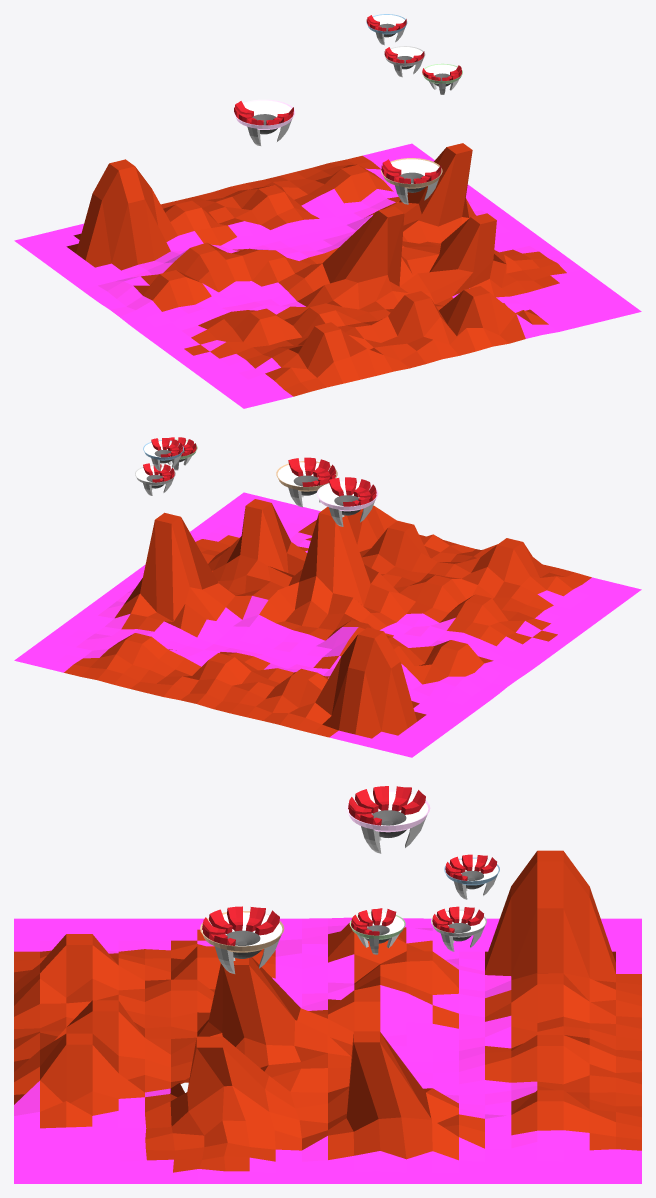
Rendered from land.gltf.
3 views of the same model, one above another, from view 1: azimuth 30°, elevation 25°; view 2: azimuth 150°, elevation 25°; view 3: azimuth 270°, elevation 25° (orthographic). The views are drawn at different scales.
Parts seen in each view (by area): view 1: Grid.001, spaceship orange, Spaceship Pink, spaceship Green.002, spaceship blue.003; view 2: Grid.001, Spaceship Pink, spaceship orange, spaceship blue.003; view 3: Grid.001, spaceship orange, Spaceship Pink, spaceship blue.003, spaceship Green.002, 0spaceship Chairs.001.
Boxes of the visible parts, box(x1,y1,x2,y2) form: Grid.001: box(14, 143, 641, 408); spaceship orange: box(381, 158, 442, 204); Spaceship Pink: box(233, 99, 294, 145); spaceship Green.002: box(422, 63, 462, 94); spaceship blue.003: box(366, 14, 407, 45); Grid.001: box(14, 492, 641, 757); Spaceship Pink: box(316, 477, 378, 526); spaceship orange: box(276, 457, 337, 507); spaceship blue.003: box(143, 438, 183, 470); Grid.001: box(14, 850, 641, 1183); spaceship orange: box(200, 906, 284, 973); Spaceship Pink: box(346, 786, 430, 853); spaceship blue.003: box(444, 854, 499, 899); spaceship Green.002: box(349, 908, 405, 954); 0spaceship Chairs.001: box(432, 906, 483, 932).
Size of the model in its own units: 10 by 4.58 by 10.
